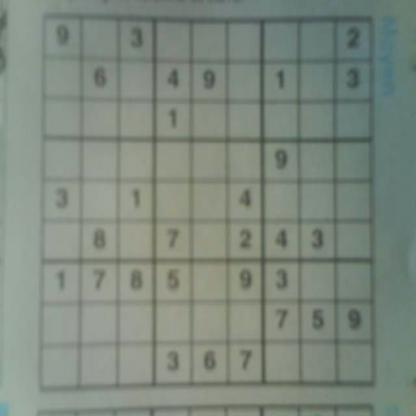sudoku: (35, 9, 380, 397)
